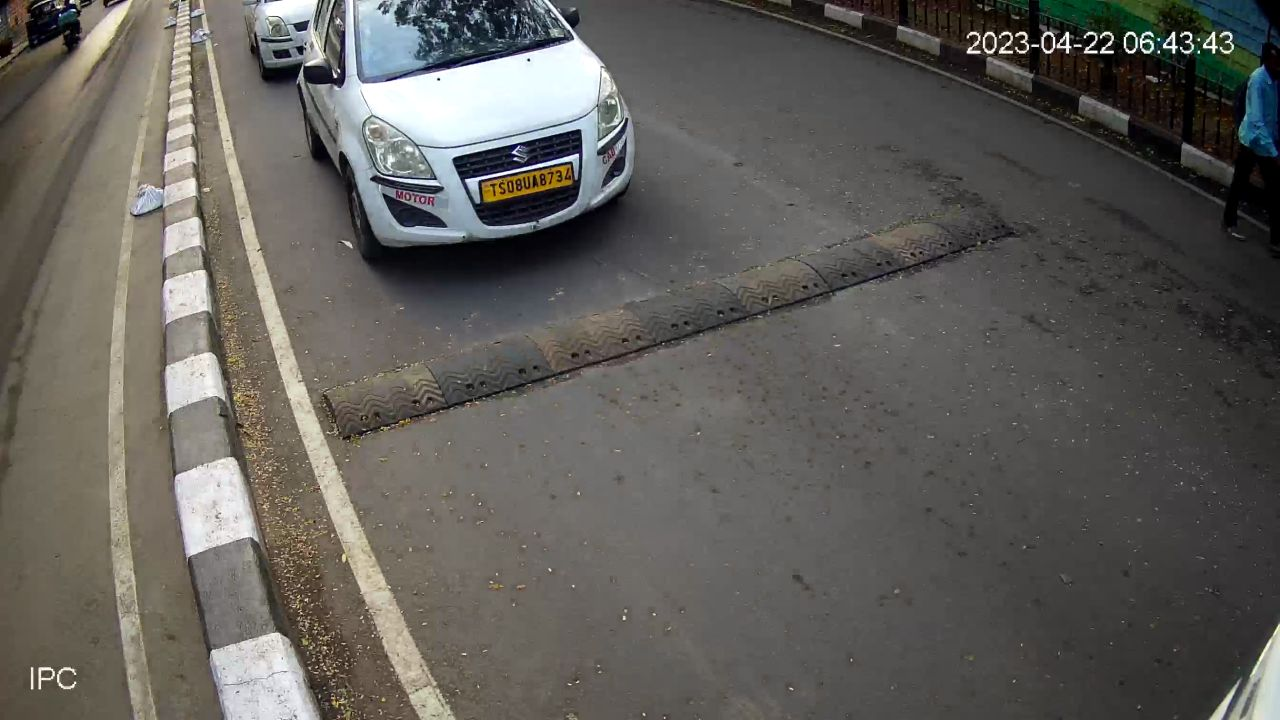license_plate: (475, 155, 580, 208)
